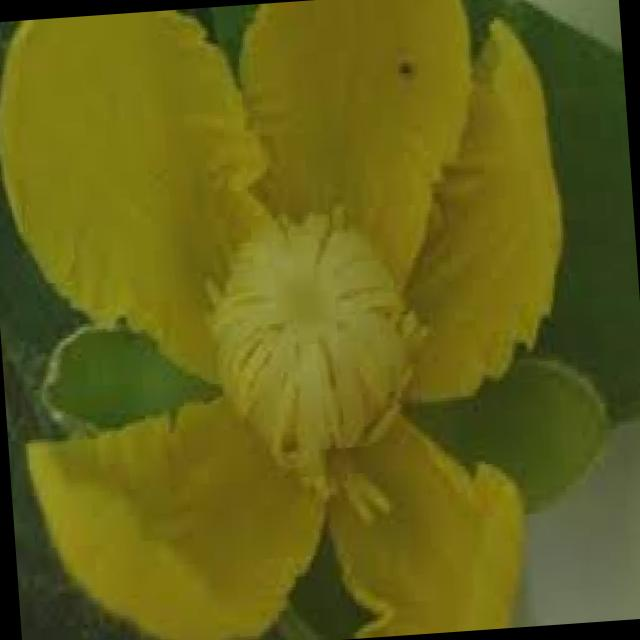Simpoh-Lak: (0, 0, 592, 640)
